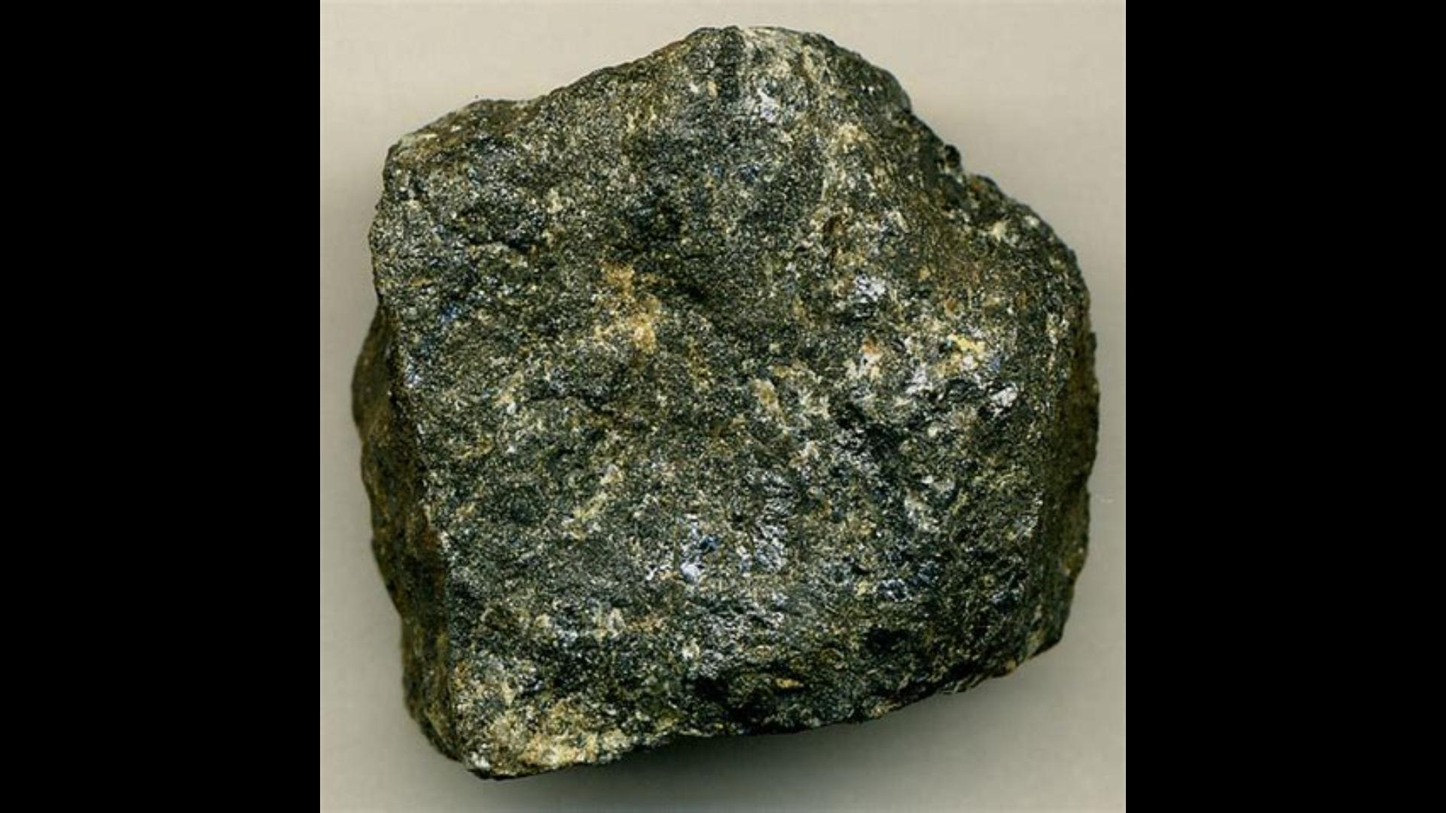rock: (352, 31, 1096, 772)
